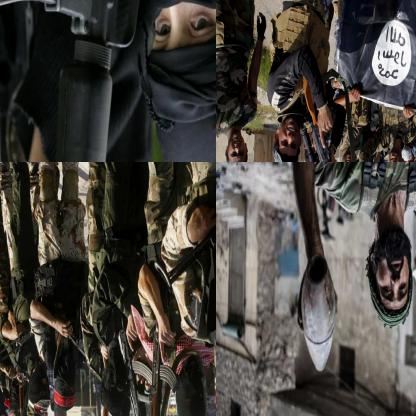rifle: (0, 0, 145, 161), (301, 74, 375, 161), (164, 162, 215, 286), (117, 330, 154, 415), (147, 331, 180, 415), (16, 374, 28, 415)
